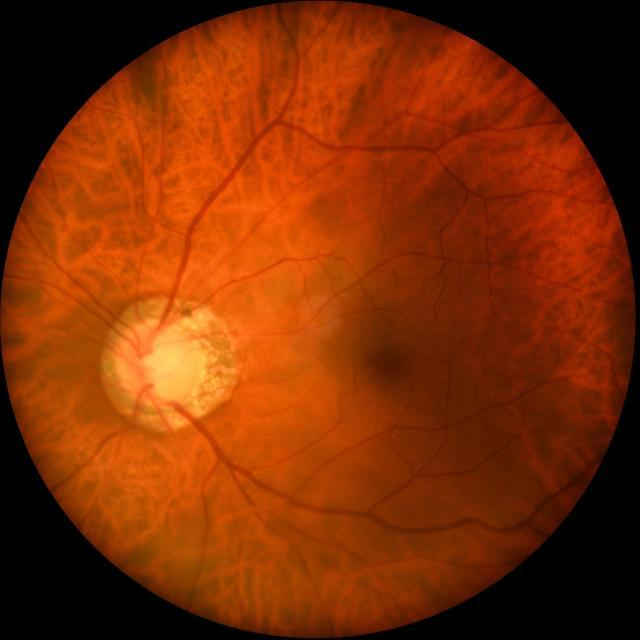OC: (134, 334, 190, 400)
OD: (112, 318, 202, 409)
